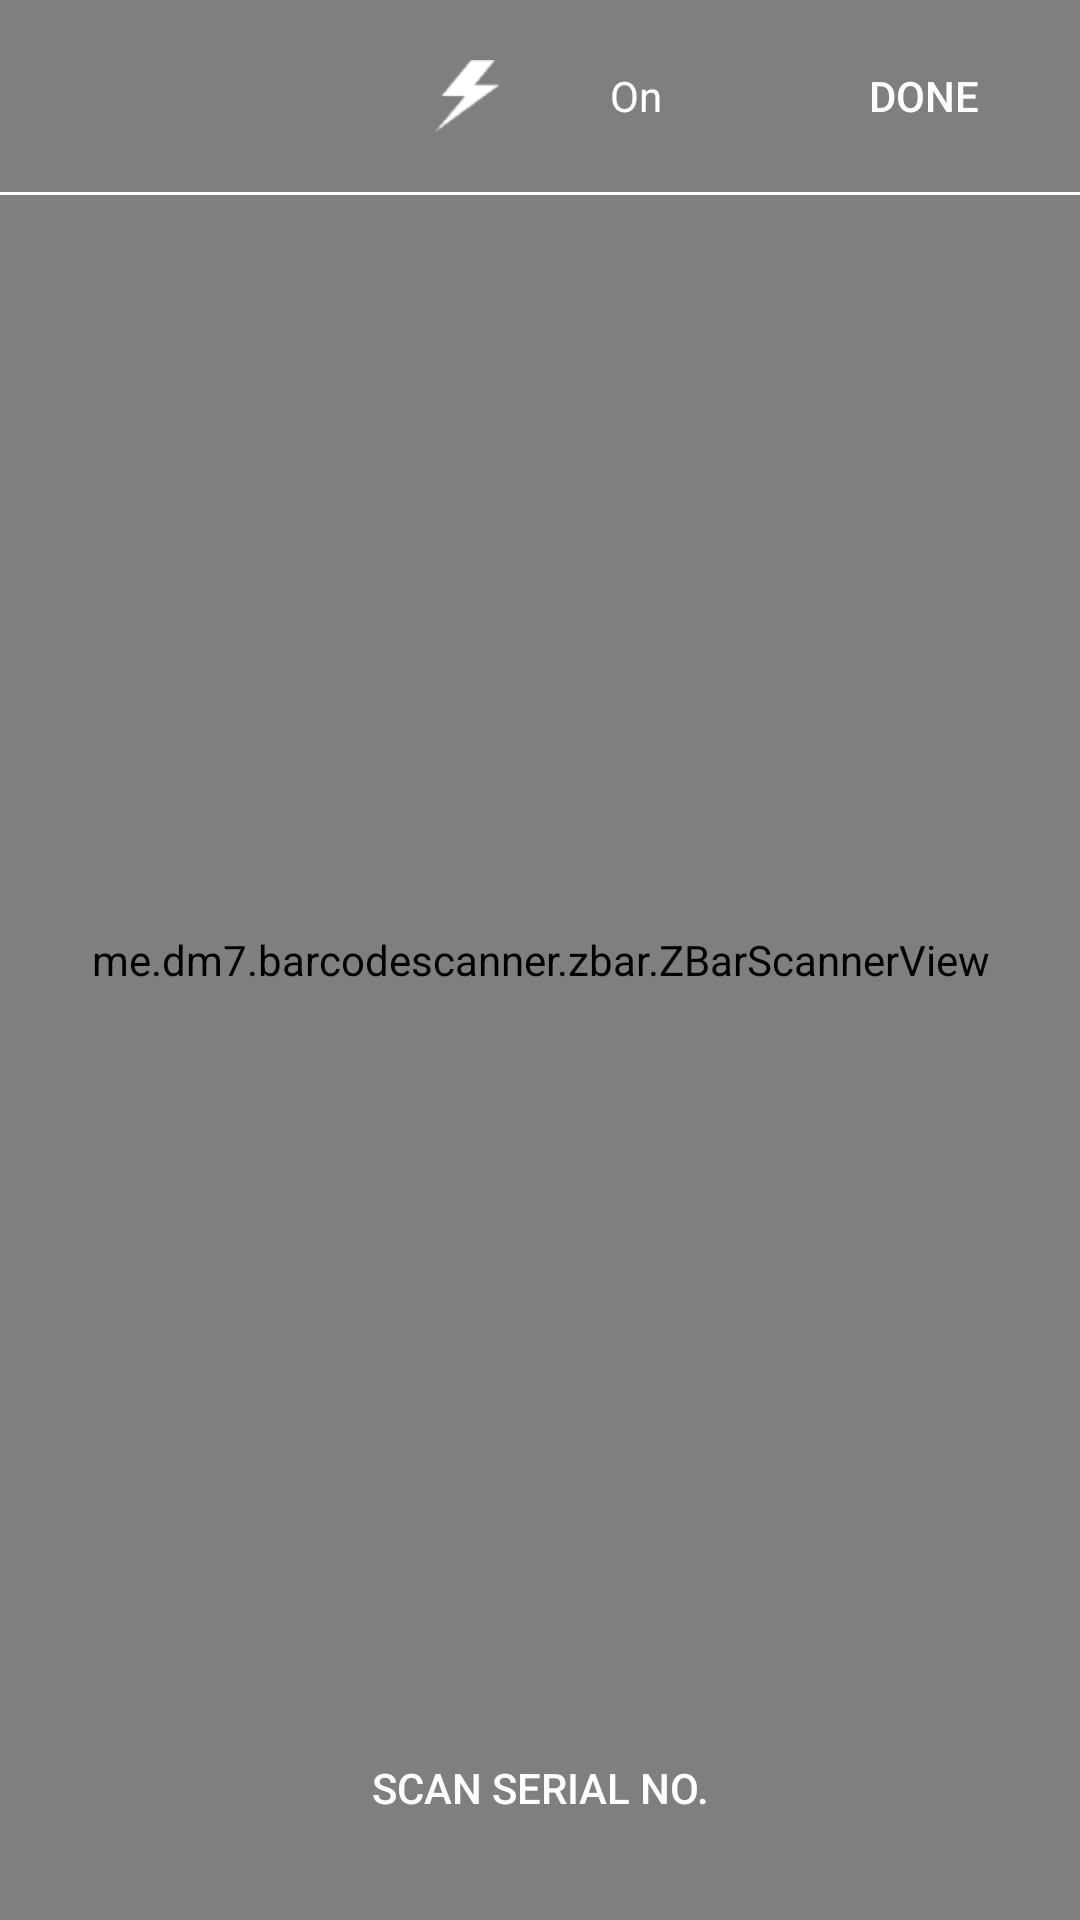

Icons on this 1080*1920 Android screen, each with its box as (x1, y1, x2, y2):
flash: (436, 60, 499, 131)
